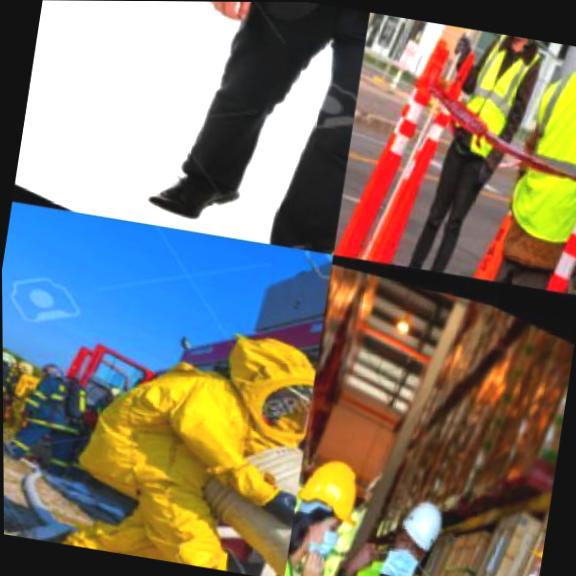safety_vest: (58, 321, 277, 574), (487, 37, 576, 256), (442, 28, 549, 173), (321, 538, 444, 576)
